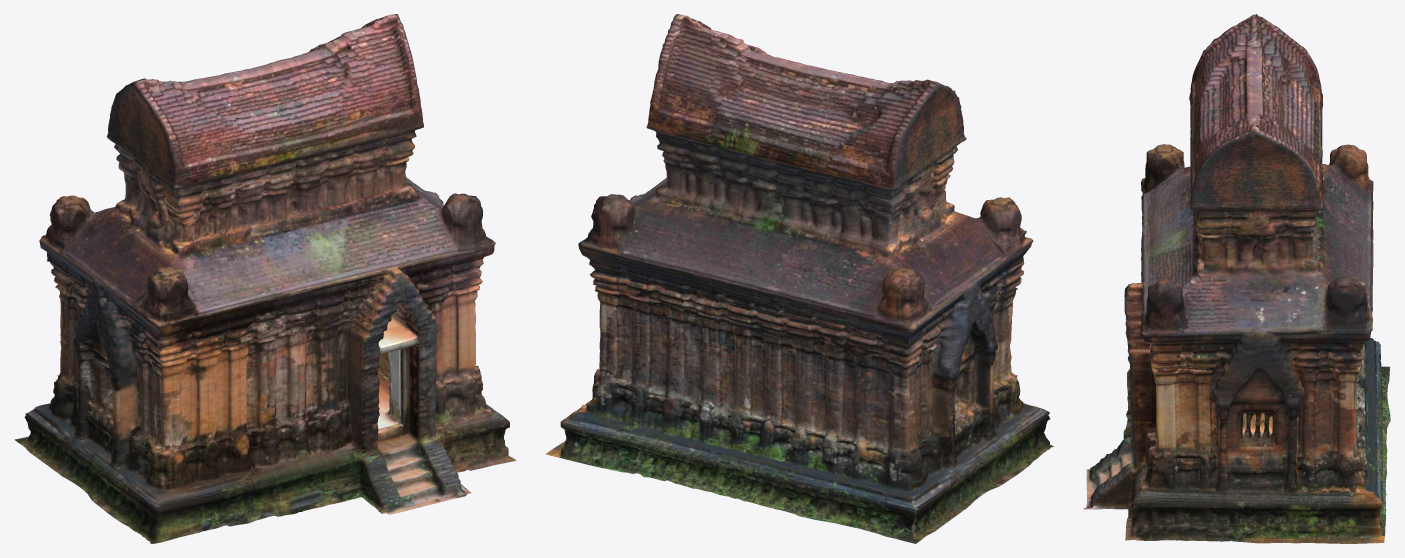
Rendered from thape7_final.glb.
3 renders of one model, left to right at view 1: azimuth 30°, elevation 25°; view 2: azimuth 150°, elevation 25°; view 3: azimuth 270°, elevation 25°, orthographic. The views are drawn at different scales.
Size of the model in its own units: 8.56 by 8.91 by 6.36.
1 material, 1 textured.
